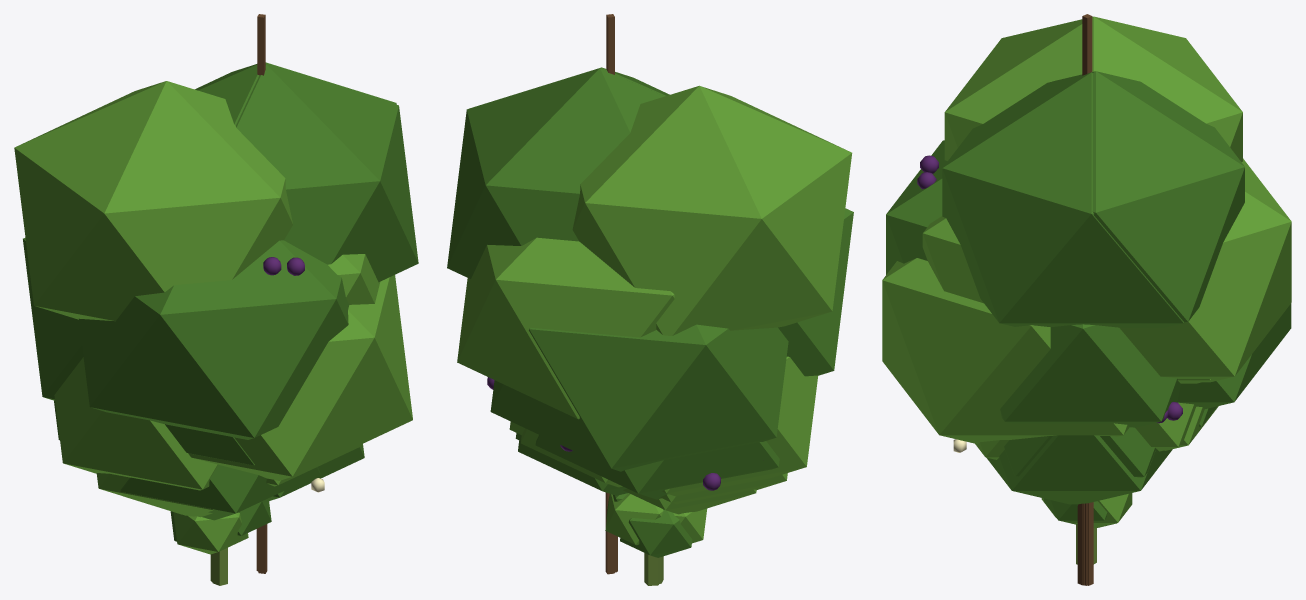
The model's file is Crop_Fruit_Grape.fbx.
3 renders of one model, left to right at view 1: azimuth 30°, elevation 25°; view 2: azimuth 150°, elevation 25°; view 3: azimuth 270°, elevation 25°, orthographic. The views are drawn at different scales.
Visible parts, largest first — view 1: Crop_Fruit_Grape__S4, Crop_Fruit_Grape__S3, Crop_Fruit_Grape__S5, Crop_Fruit_Grape__S1; view 2: Crop_Fruit_Grape__S4, Crop_Fruit_Grape__S3, Crop_Fruit_Grape__S1, Crop_Fruit_Grape__S5, Crop_Fruit_Grape__S2; view 3: Crop_Fruit_Grape__S4, Crop_Fruit_Grape__S3, Crop_Fruit_Grape__S5, Crop_Fruit_Grape__S1.
Part boxes in pixels (x1,y1,x2,y2): Crop_Fruit_Grape__S4: (14,14,418,581); Crop_Fruit_Grape__S3: (54,254,380,580); Crop_Fruit_Grape__S5: (96,444,364,582); Crop_Fruit_Grape__S1: (170,501,271,585); Crop_Fruit_Grape__S4: (447,14,853,585); Crop_Fruit_Grape__S3: (535,356,817,585); Crop_Fruit_Grape__S1: (605,493,707,583); Crop_Fruit_Grape__S5: (509,421,787,583); Crop_Fruit_Grape__S2: (615,488,756,583); Crop_Fruit_Grape__S4: (882,14,1291,585); Crop_Fruit_Grape__S3: (922,216,1216,585); Crop_Fruit_Grape__S5: (975,402,1218,585); Crop_Fruit_Grape__S1: (1041,493,1132,585).
Size of the model in its own units: 0.2575 by 0.375 by 0.2452.
